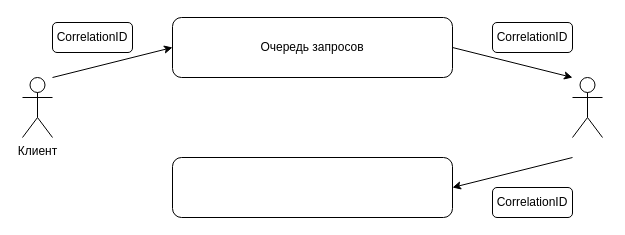
Some shapes in this 625 by 235 pixel diagram are drawn without their labels. The centre of each missing label's shape, as x and y in pixels:
"Очередь ответов" belongs at point 312,187.
"Сервер" belongs at point 587,107.
